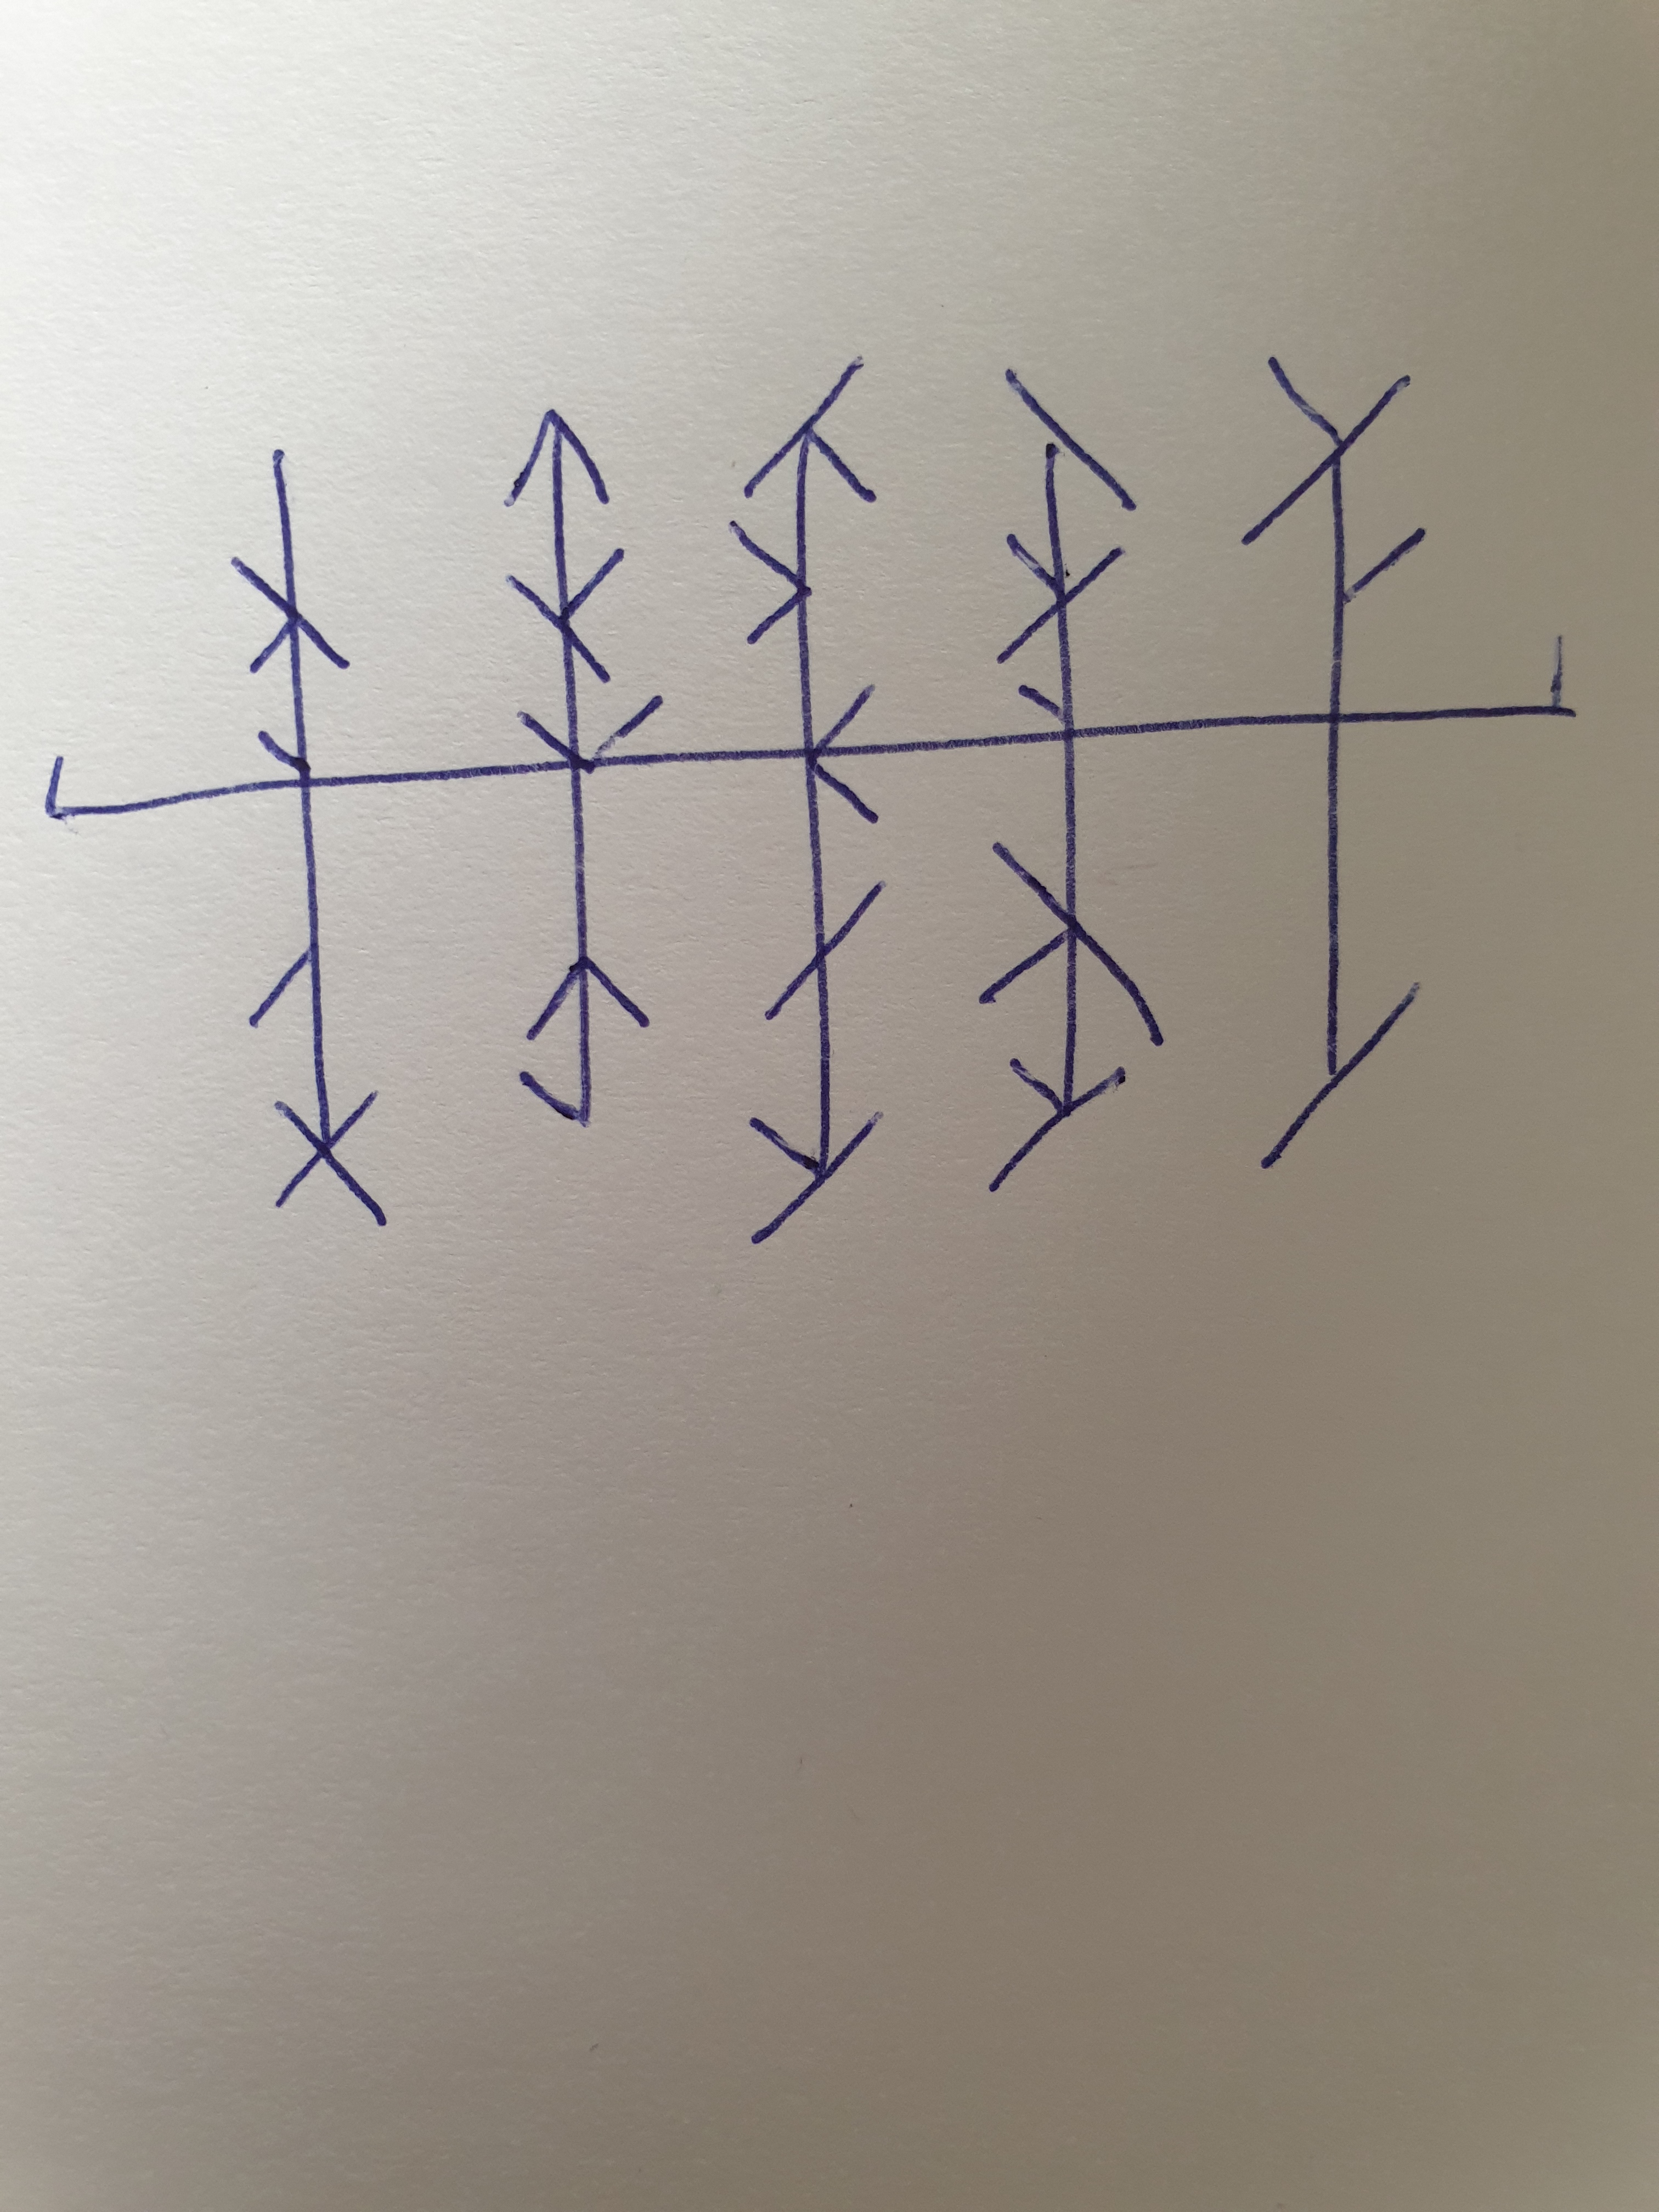Bar: (978, 368, 1162, 1193), (1241, 357, 1427, 1167), (730, 355, 885, 1249), (230, 449, 390, 1230), (502, 409, 666, 1127)
Barcode: (40, 357, 1577, 1245)
End: (1345, 636, 1577, 725)
Start: (45, 754, 265, 822)
